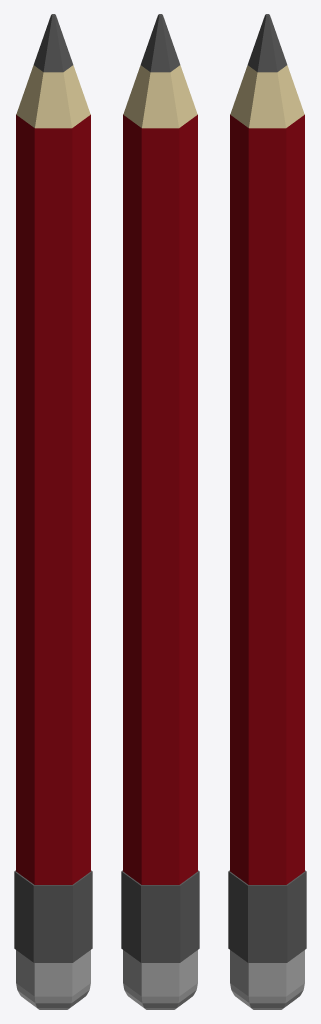
Rendered from pencil.glb.
The picture shows the model from 3 angles, left to right: view 1: azimuth 30°, elevation 25°; view 2: azimuth 150°, elevation 25°; view 3: azimuth 330°, elevation 25°; orthographic projection.
Parts seen in each view (by area): view 1: Cylinder_0, Cylinder.001_1; view 2: Cylinder_0, Cylinder.001_1; view 3: Cylinder_0, Cylinder.001_1.
Part boxes in pixels (x1,y1,x2,y2): Cylinder_0: [16, 14, 90, 1009]; Cylinder.001_1: [14, 870, 92, 962]; Cylinder_0: [123, 14, 197, 1009]; Cylinder.001_1: [121, 870, 199, 962]; Cylinder_0: [230, 14, 304, 1009]; Cylinder.001_1: [228, 870, 306, 962].
Size of the model in its own units: 0.02 by 0.3199 by 0.023.
